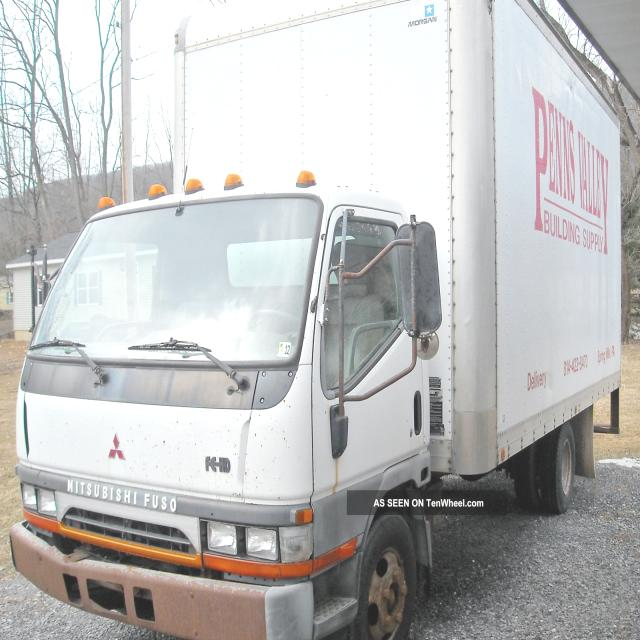truck: (1, 4, 625, 640)
